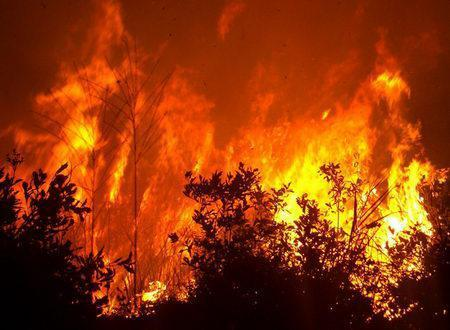fire: (8, 48, 440, 308)
